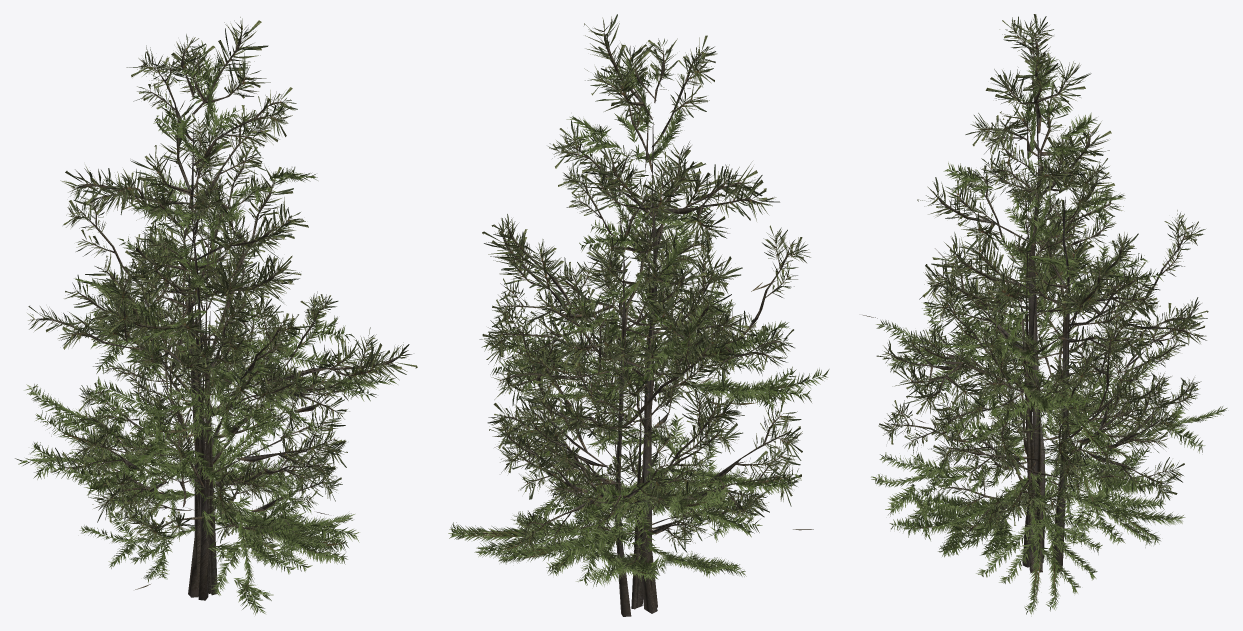
Rendered from real-tree-lods-v1.glb.
The picture shows the model from 3 angles, left to right: view 1: azimuth 30°, elevation 25°; view 2: azimuth 150°, elevation 25°; view 3: azimuth 270°, elevation 25°; orthographic projection. The views are drawn at different scales.
Parts seen in each view (by area): view 1: real_tree_pine_sapling_small_a_lod0, real_tree_fir_sapling_a_lod0, real_tree_pine_sapling_small_b_lod0, real_tree_pine_sapling_small_c_lod0, real_tree_fir_sapling_b_lod0, real_tree_fir_sapling_c_lod0; view 2: real_tree_pine_sapling_small_a_lod0, real_tree_pine_sapling_small_b_lod0, real_tree_fir_sapling_a_lod0, real_tree_pine_sapling_small_c_lod0, real_tree_fir_sapling_b_lod0, real_tree_fir_sapling_c_lod0; view 3: real_tree_pine_sapling_small_a_lod0, real_tree_pine_sapling_small_b_lod0, real_tree_fir_sapling_b_lod0, real_tree_pine_sapling_small_c_lod0, real_tree_fir_sapling_a_lod0, real_tree_fir_sapling_c_lod0.
Boxes of the visible parts, bbox=[...] form: real_tree_pine_sapling_small_a_lod0: bbox=[27, 17, 417, 597]; real_tree_fir_sapling_a_lod0: bbox=[15, 40, 397, 615]; real_tree_pine_sapling_small_b_lod0: bbox=[64, 114, 349, 523]; real_tree_pine_sapling_small_c_lod0: bbox=[77, 179, 342, 600]; real_tree_fir_sapling_b_lod0: bbox=[24, 175, 359, 600]; real_tree_fir_sapling_c_lod0: bbox=[67, 328, 340, 582]; real_tree_pine_sapling_small_a_lod0: bbox=[479, 14, 810, 613]; real_tree_pine_sapling_small_b_lod0: bbox=[489, 145, 742, 616]; real_tree_fir_sapling_a_lod0: bbox=[463, 55, 829, 607]; real_tree_pine_sapling_small_c_lod0: bbox=[516, 175, 769, 607]; real_tree_fir_sapling_b_lod0: bbox=[449, 193, 789, 603]; real_tree_fir_sapling_c_lod0: bbox=[448, 328, 748, 609]; real_tree_pine_sapling_small_a_lod0: bbox=[876, 14, 1206, 562]; real_tree_pine_sapling_small_b_lod0: bbox=[878, 140, 1208, 572]; real_tree_fir_sapling_b_lod0: bbox=[871, 185, 1227, 616]; real_tree_pine_sapling_small_c_lod0: bbox=[910, 169, 1171, 567]; real_tree_fir_sapling_a_lod0: bbox=[863, 57, 1165, 605]; real_tree_fir_sapling_c_lod0: bbox=[899, 291, 1185, 611].
Size of what is drawn, in the model's own units: 0.7858 by 1.3 by 0.8114.
Materials: 4 (4 with a texture image).
